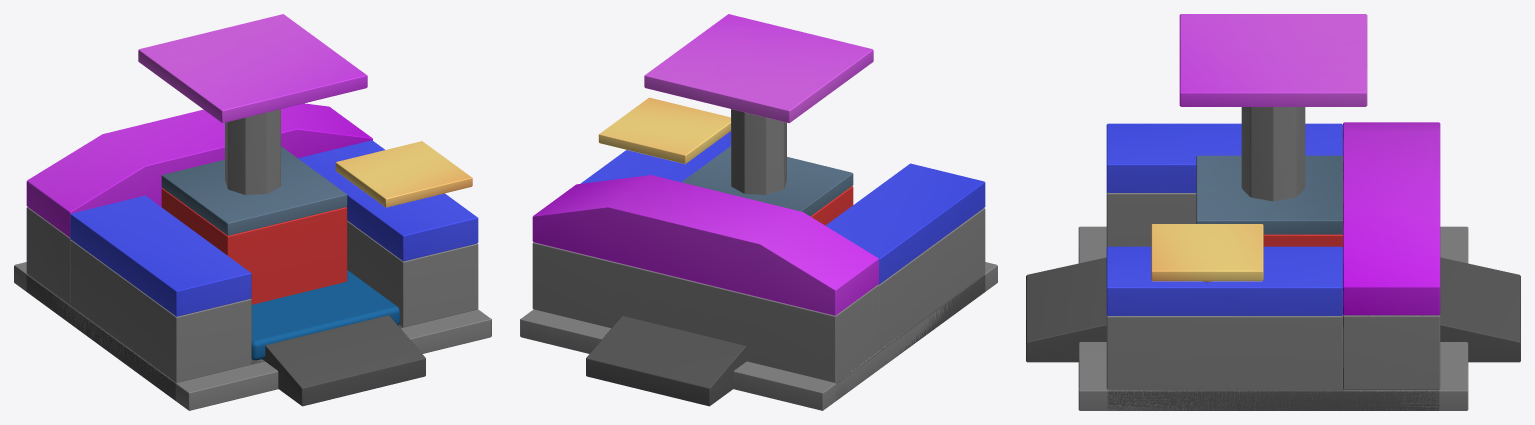
File: cat_levelobjects.fbx
The picture shows the model from 3 angles, left to right: view 1: azimuth 30°, elevation 25°; view 2: azimuth 150°, elevation 25°; view 3: azimuth 270°, elevation 25°; orthographic projection. The views are drawn at different scales.
Visible parts, largest first — view 1: cat1_7, cat2_8, cat1_5, cat1_2, cat2_2, cat2_3, cat2_4, cat1_3, cat1_6, cat2_1, cat1_8, cat2_6 (+3 smaller); view 2: cat1_7, cat1_4, cat2_8, cat1_5, cat2_2, cat2_1, cat1_2, cat2_6, cat2_4, cat2_7, cat1_6, cat1_1 (+1 smaller); view 3: cat1_7, cat2_8, cat1_3, cat2_2, cat1_6, cat1_5, cat2_1, cat2_4, cat1_4, cat1_1, cat2_6, cat2_7 (+2 smaller).
Part boxes in pixels (x1=…): cat1_7: x1=26, y1=103, x2=372, y2=237; cat2_8: x1=138, y1=14, x2=367, y2=123; cat1_5: x1=70, y1=195, x2=251, y2=316; cat1_2: x1=70, y1=240, x2=251, y2=382; cat2_2: x1=262, y1=315, x2=425, y2=406; cat2_3: x1=161, y1=188, x2=347, y2=304; cat2_4: x1=161, y1=146, x2=347, y2=235; cat1_3: x1=347, y1=221, x2=478, y2=327; cat1_6: x1=298, y1=140, x2=478, y2=261; cat2_1: x1=14, y1=262, x2=491, y2=410; cat1_8: x1=251, y1=270, x2=399, y2=360; cat2_6: x1=335, y1=141, x2=472, y2=207; cat1_7: x1=532, y1=175, x2=878, y2=315; cat1_4: x1=532, y1=242, x2=878, y2=382; cat2_8: x1=644, y1=14, x2=873, y2=123; cat1_5: x1=825, y1=163, x2=985, y2=284; cat2_2: x1=586, y1=316, x2=746, y2=406; cat2_1: x1=520, y1=262, x2=997, y2=410; cat1_2: x1=878, y1=208, x2=985, y2=350; cat2_6: x1=598, y1=97, x2=730, y2=164; cat2_4: x1=682, y1=146, x2=853, y2=216; cat2_7: x1=731, y1=109, x2=786, y2=194; cat1_6: x1=580, y1=131, x2=730, y2=183; cat1_1: x1=835, y1=274, x2=985, y2=400; cat1_7: x1=1343, y1=122, x2=1440, y2=315; cat2_8: x1=1179, y1=14, x2=1367, y2=106; cat1_3: x1=1106, y1=315, x2=1342, y2=389; cat2_2: x1=1026, y1=257, x2=1520, y2=362; cat1_6: x1=1106, y1=246, x2=1342, y2=315; cat1_5: x1=1106, y1=123, x2=1342, y2=192; cat2_1: x1=1078, y1=226, x2=1468, y2=410; cat2_4: x1=1196, y1=155, x2=1342, y2=234; cat1_4: x1=1343, y1=315, x2=1440, y2=390; cat1_1: x1=1107, y1=389, x2=1439, y2=410; cat2_6: x1=1151, y1=224, x2=1263, y2=281; cat2_7: x1=1241, y1=107, x2=1305, y2=201.
Size of the model in its own units: 3.39 by 2.54 by 4.13.
